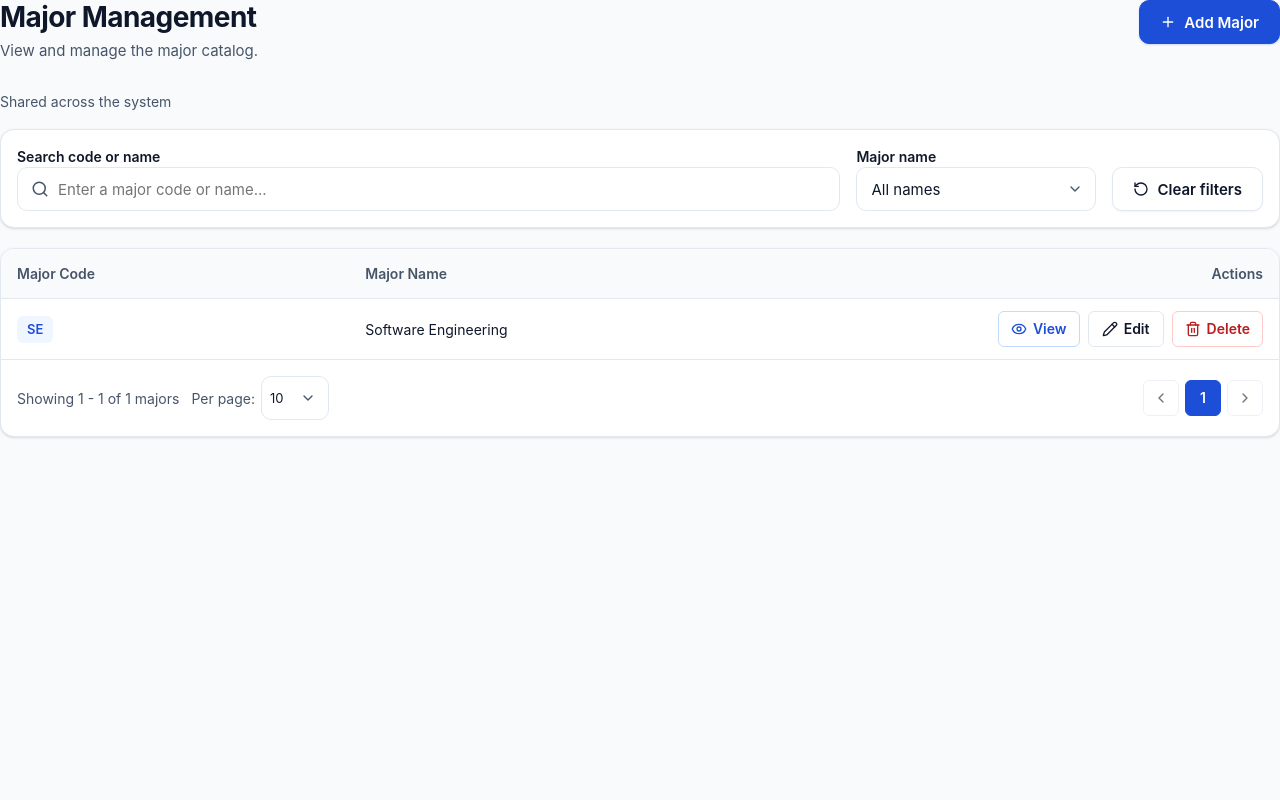
Test: Major management › shows the backend restriction when changing the code of a major used by students
Step 1. Click the button with aria-label "Edit major SE" → (1126, 329), box [1088,311,1164,347]
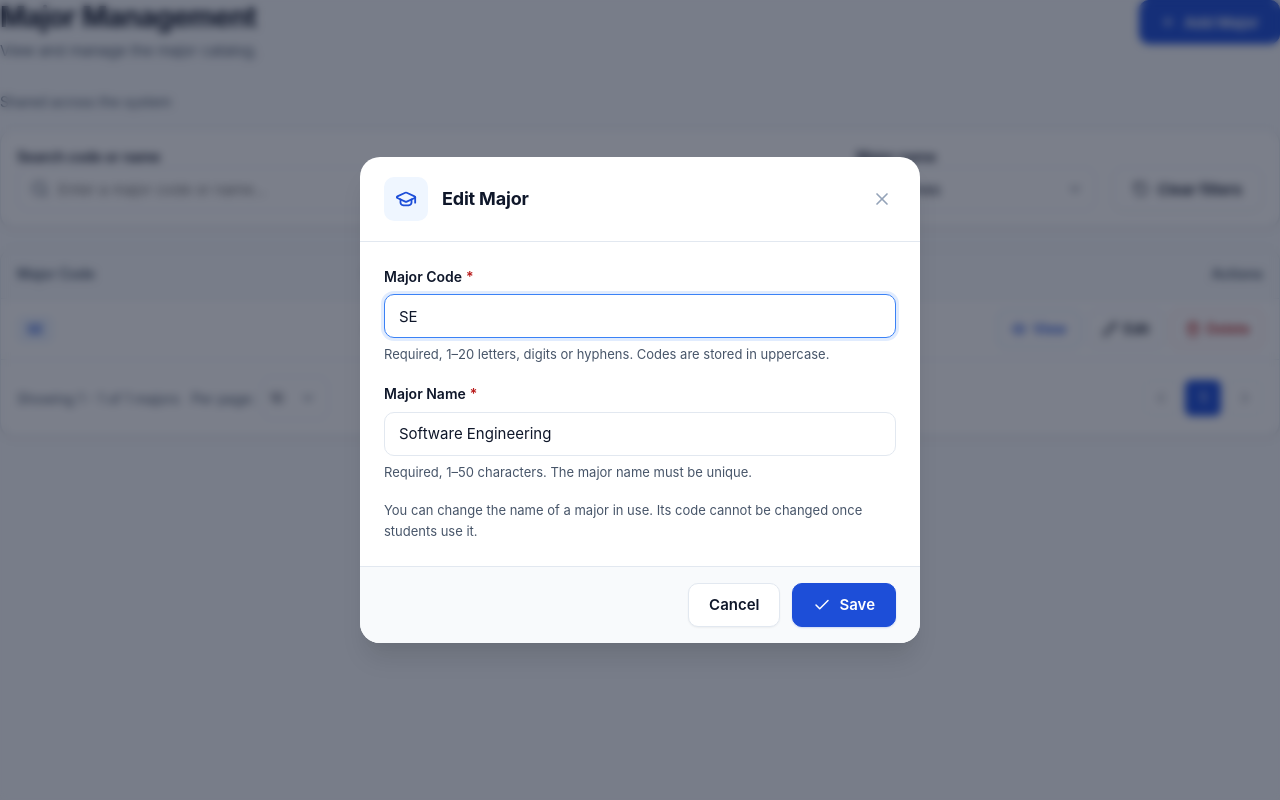
Step 2. Replace the text in the field labelled "Major Code*" with "NEW" → (640, 316), box [384,294,896,338]
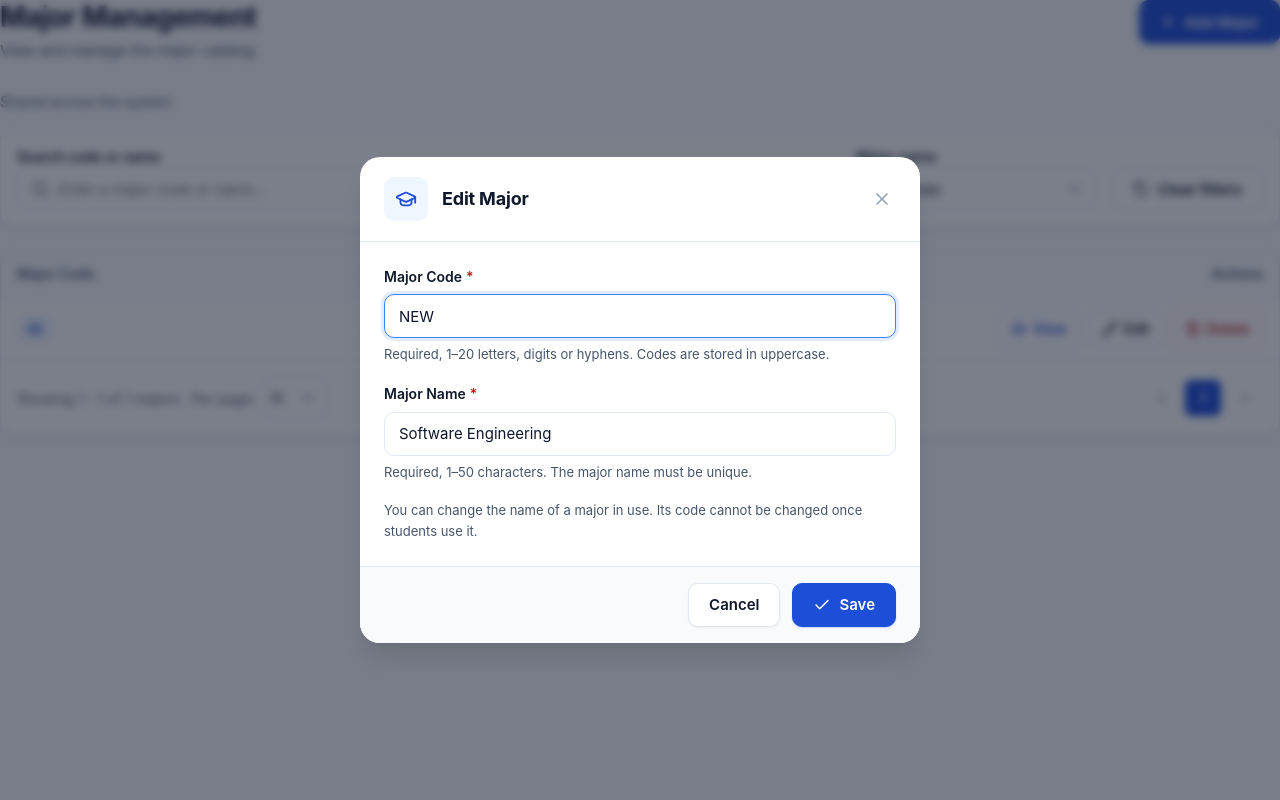
Step 3. Click the button "Save" → (844, 605), box [792,583,896,627]
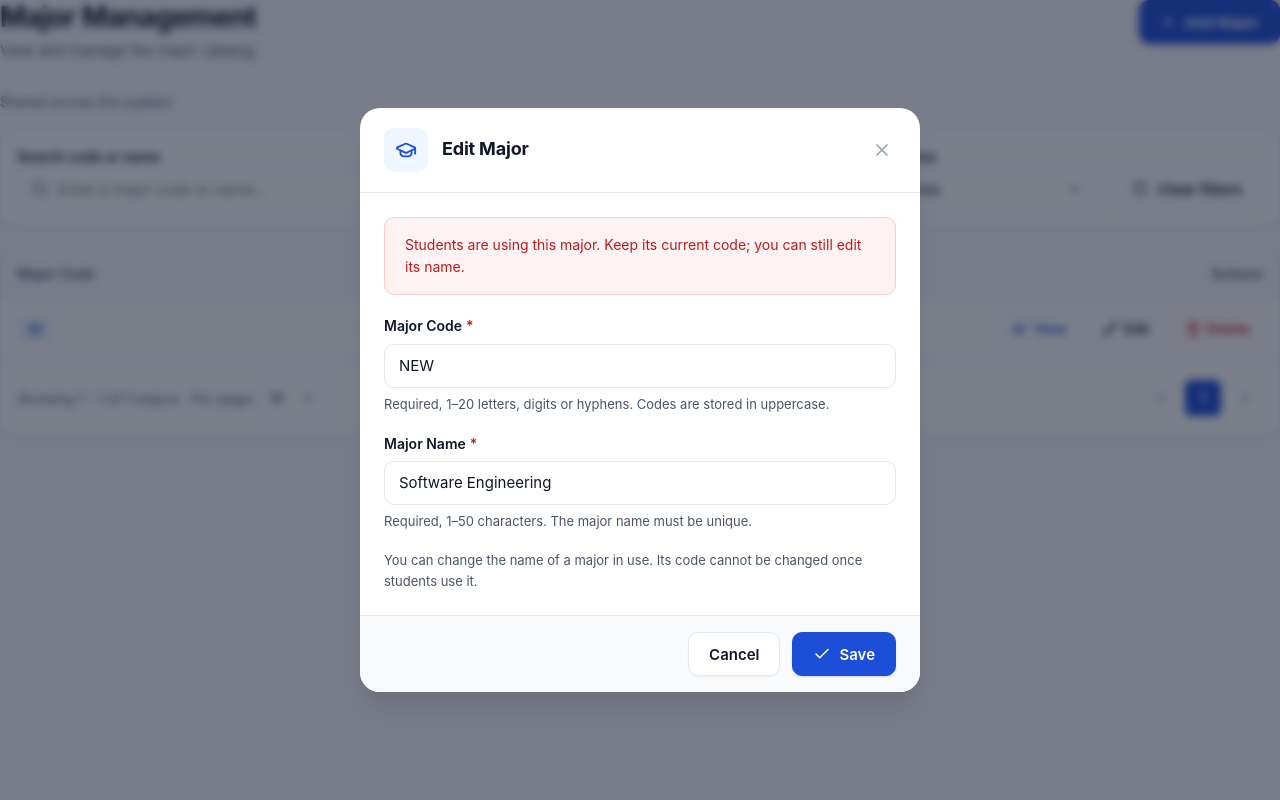
Expected: the text "Students are using this major. Keep its current code; you can still edit its name." is shown, [405,236,861,275]
